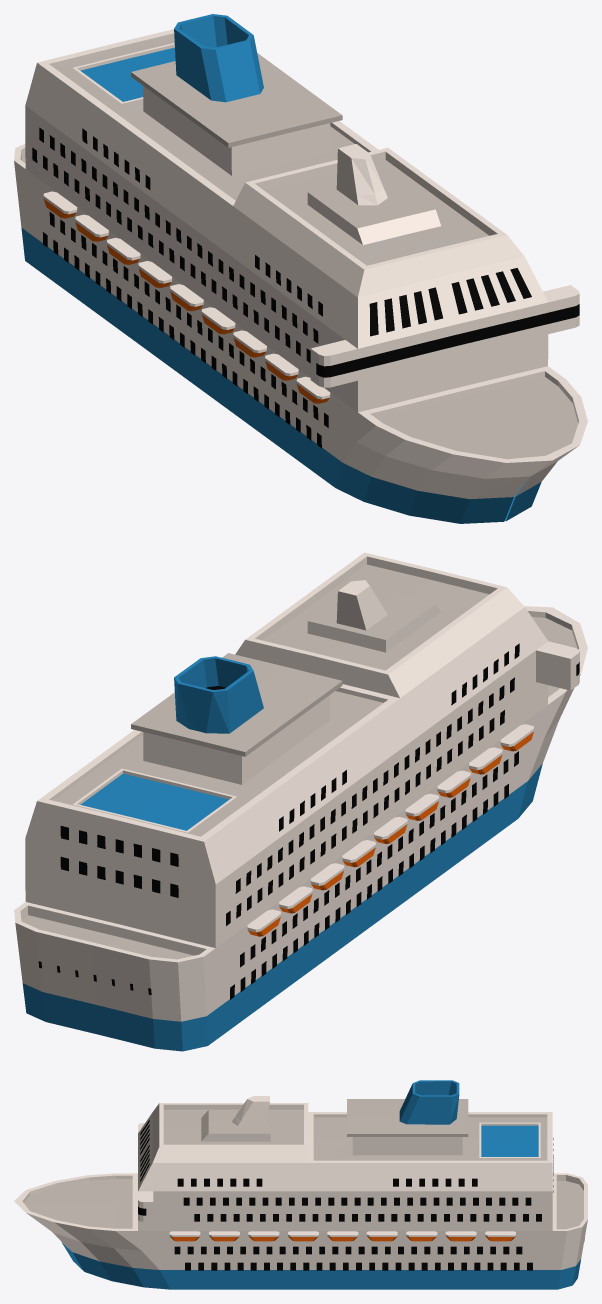
The model's file is 1394 Cruise Liner.obj.
The picture shows the model from 3 angles, top to bottom: view 1: azimuth 30°, elevation 25°; view 2: azimuth 150°, elevation 25°; view 3: azimuth 270°, elevation 25°; orthographic projection. The views are drawn at different scales.
Parts seen in each view (by area): view 1: Cruise_Liner; view 2: Cruise_Liner; view 3: Cruise_Liner.
Boxes of the visible parts, left/top/right/bottom form: Cruise_Liner: left=14, top=14, right=587, bottom=523; Cruise_Liner: left=14, top=552, right=587, bottom=1051; Cruise_Liner: left=14, top=1080, right=587, bottom=1289.
Bounding box in the file's own units: 31.18 × 31.87 × 95.58.
Materials: 1 (1 with a texture image).
